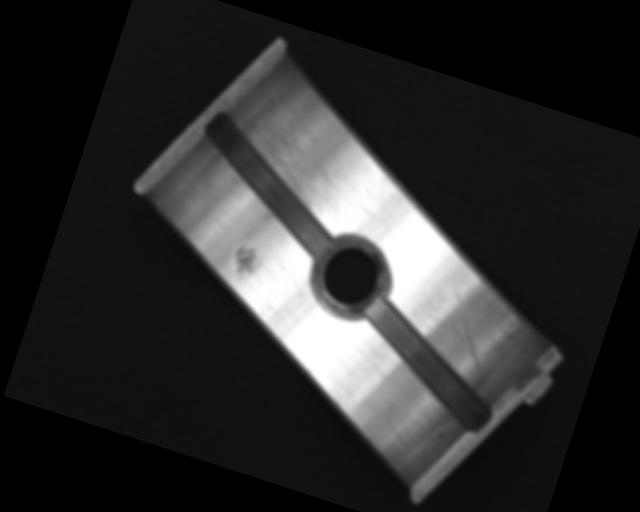bruise: (226, 242, 262, 286)
gap: (177, 109, 360, 262), (340, 294, 513, 436)
hole: (303, 228, 396, 327)
nick: (431, 287, 504, 374)
scratch: (225, 87, 368, 224)
